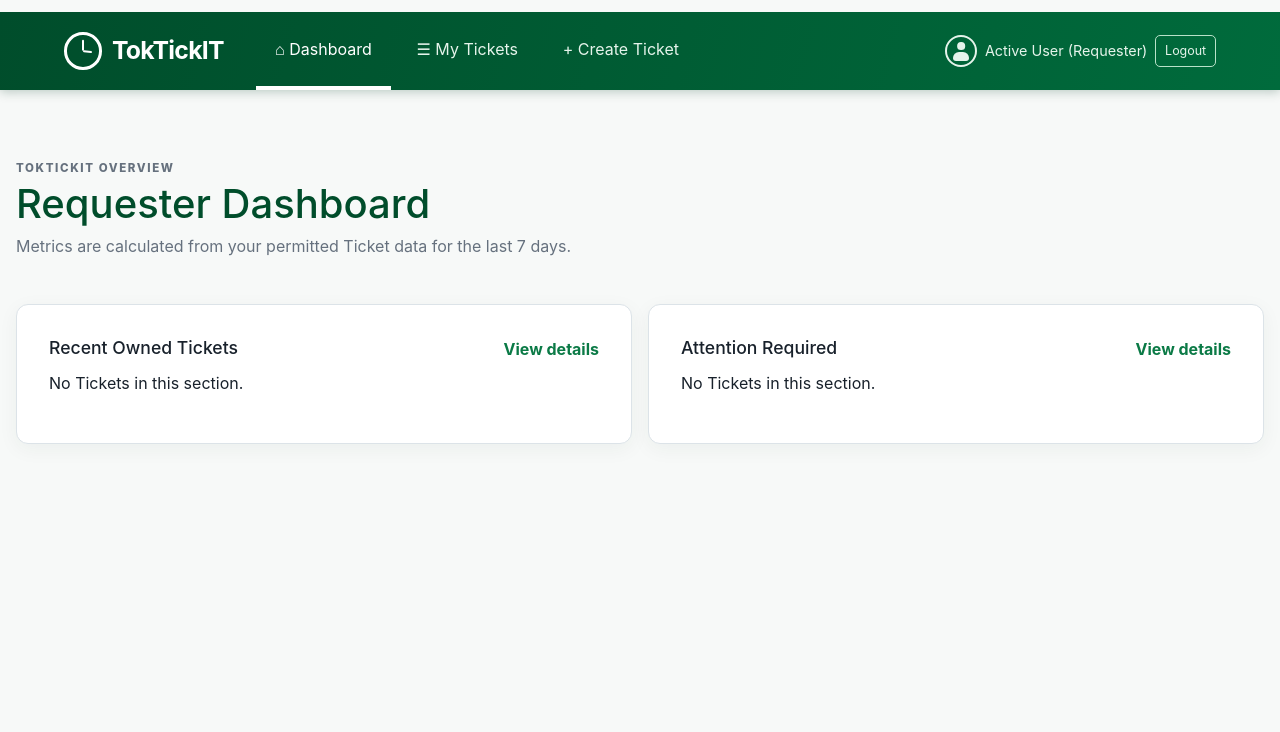
Test: Lab 2 My Tickets regression › shows the owned list and supports Clear Filters after authentication
Click the button "☰ My Tickets".
click(467, 51)  # box [397, 12, 537, 90]
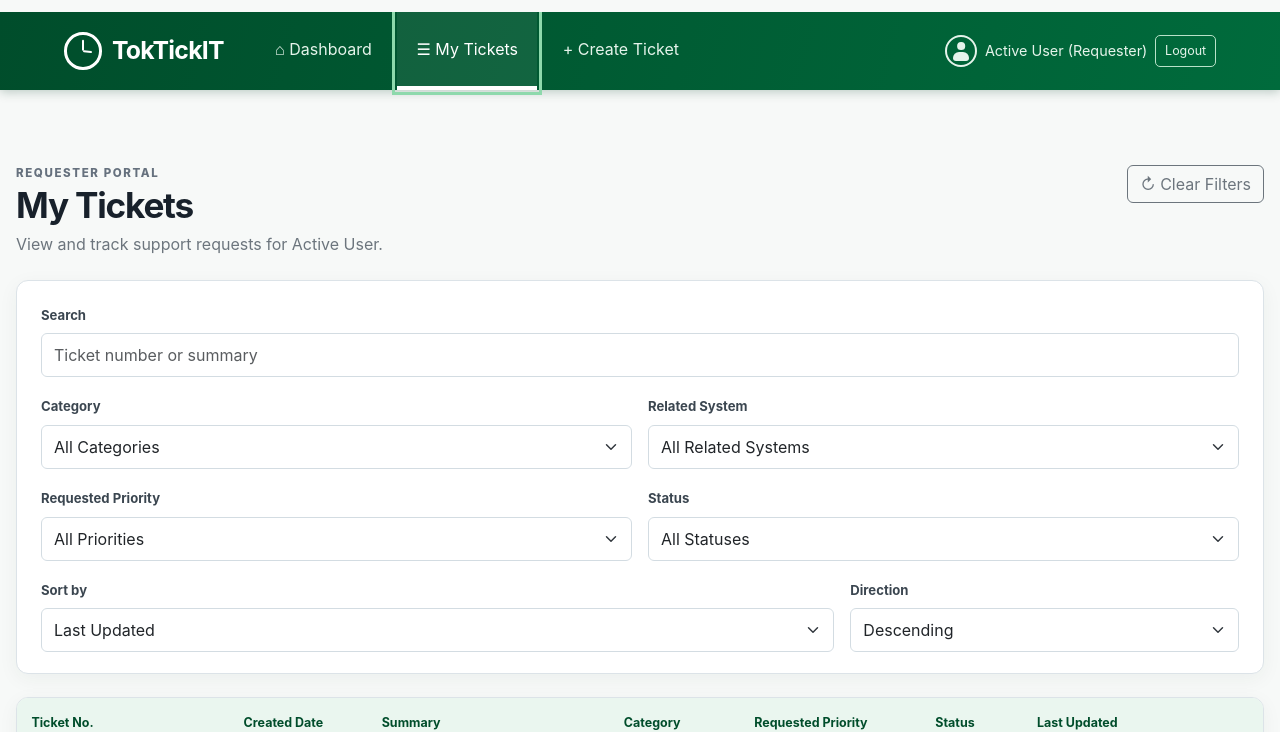
Select "HIGH" in the dropdown labelled "Requested Priority" at [336, 539], box [41, 517, 632, 561]
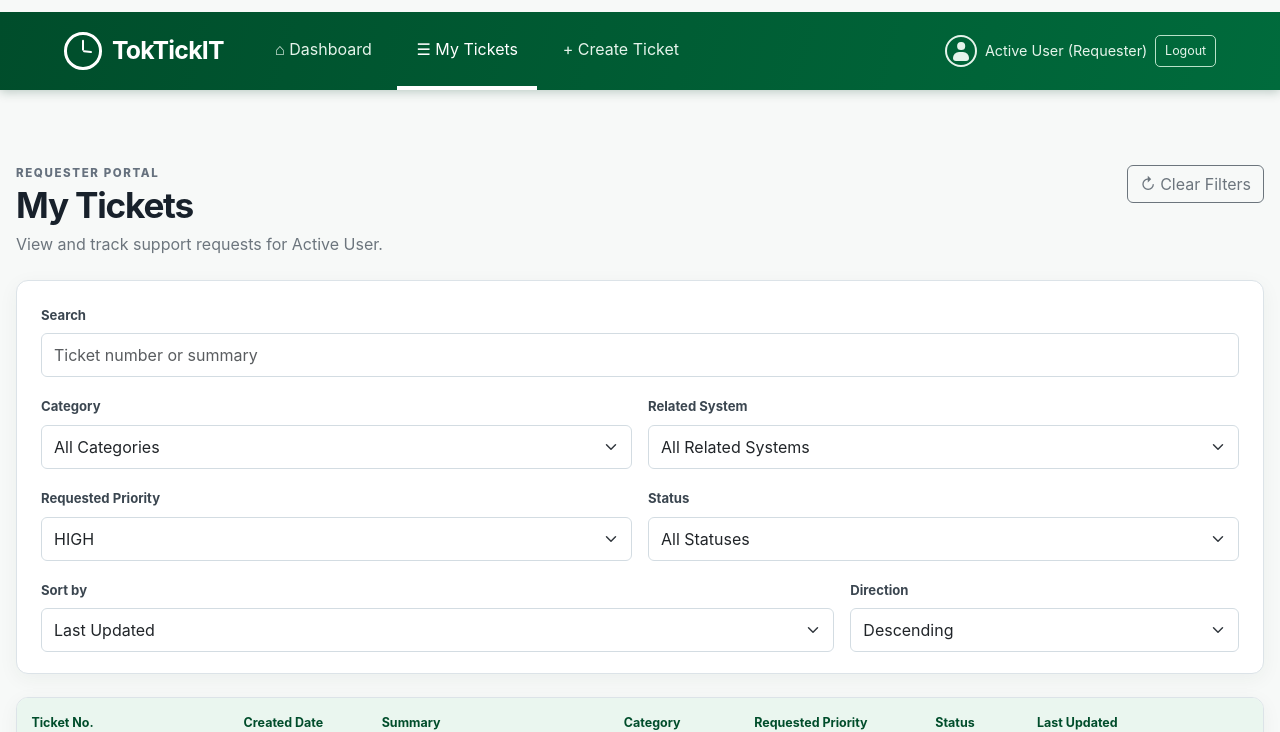
Click the button "↻ Clear Filters".
click(1196, 184)  # box [1127, 165, 1264, 203]
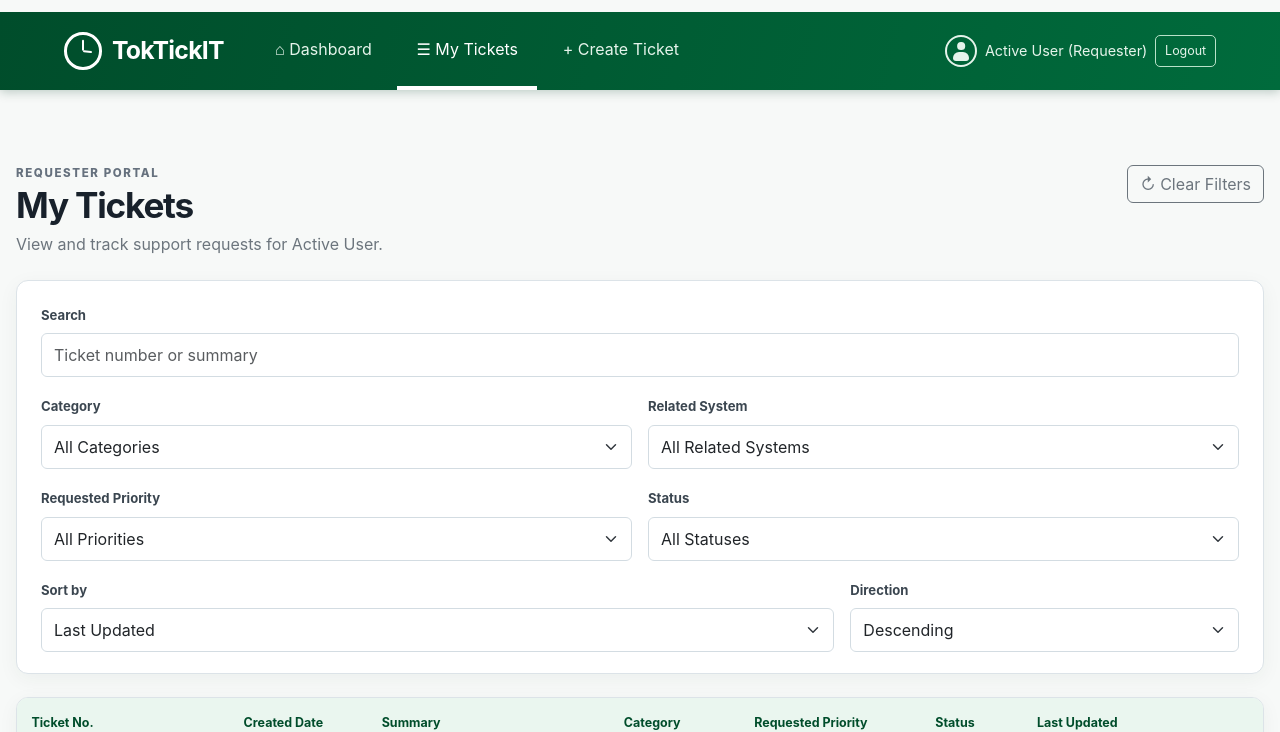
Check: the dropdown labelled "Requested Priority" shows "All Priorities", box [41, 517, 632, 561]
